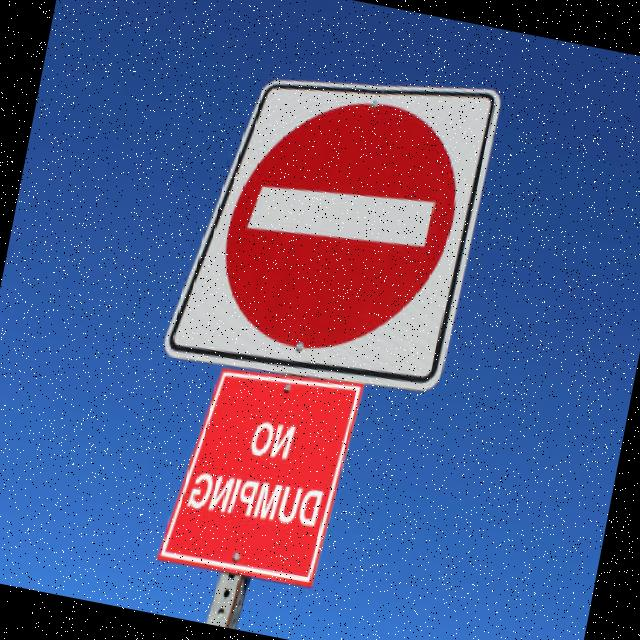do_not_enter: (200, 71, 474, 388)
